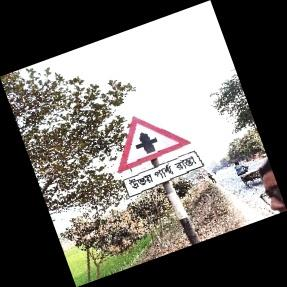Crossroad: (118, 118, 207, 202)
